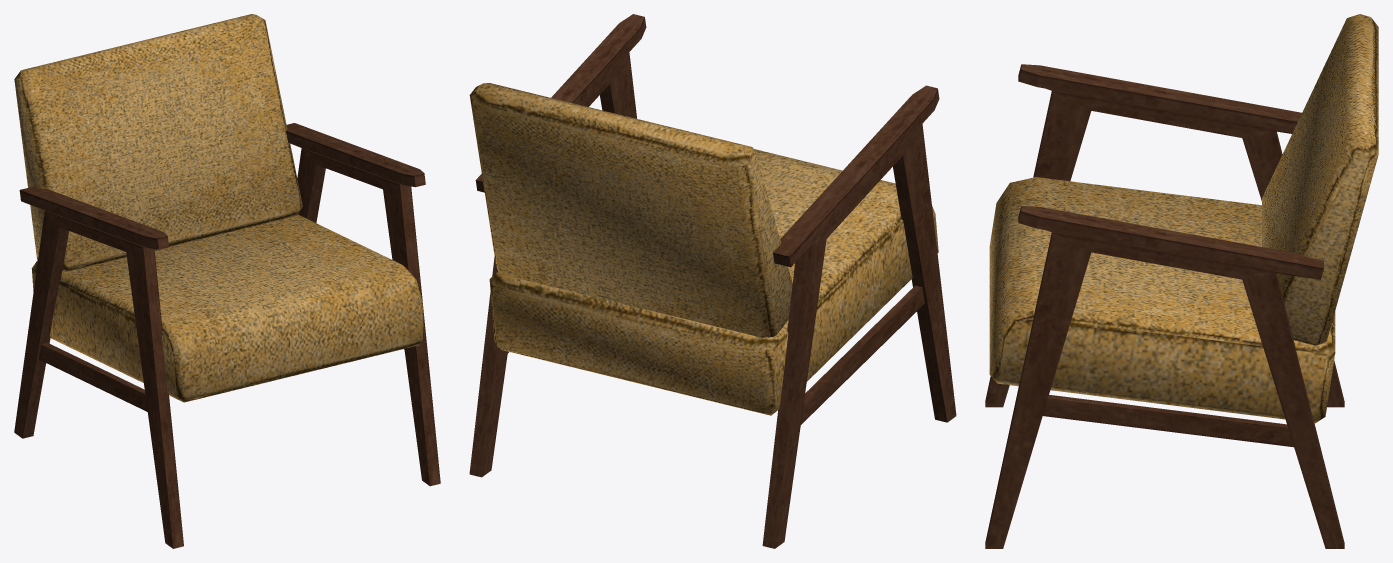
File: ps2_armchair.glb
The picture shows the model from 3 angles, left to right: view 1: azimuth 30°, elevation 25°; view 2: azimuth 150°, elevation 25°; view 3: azimuth 270°, elevation 25°; orthographic projection. The views are drawn at different scales.
Visible parts, largest first — view 1: armchair_1.001; view 2: armchair_1.001; view 3: armchair_1.001.
Boxes of the visible parts, x1,y1,x2,y2 form: armchair_1.001: (14,14,440,548); armchair_1.001: (469,14,956,548); armchair_1.001: (985,14,1378,548).
Size of the model in its own units: 0.4975 by 0.6086 by 0.5459.
Materials: 1 (1 with a texture image).
